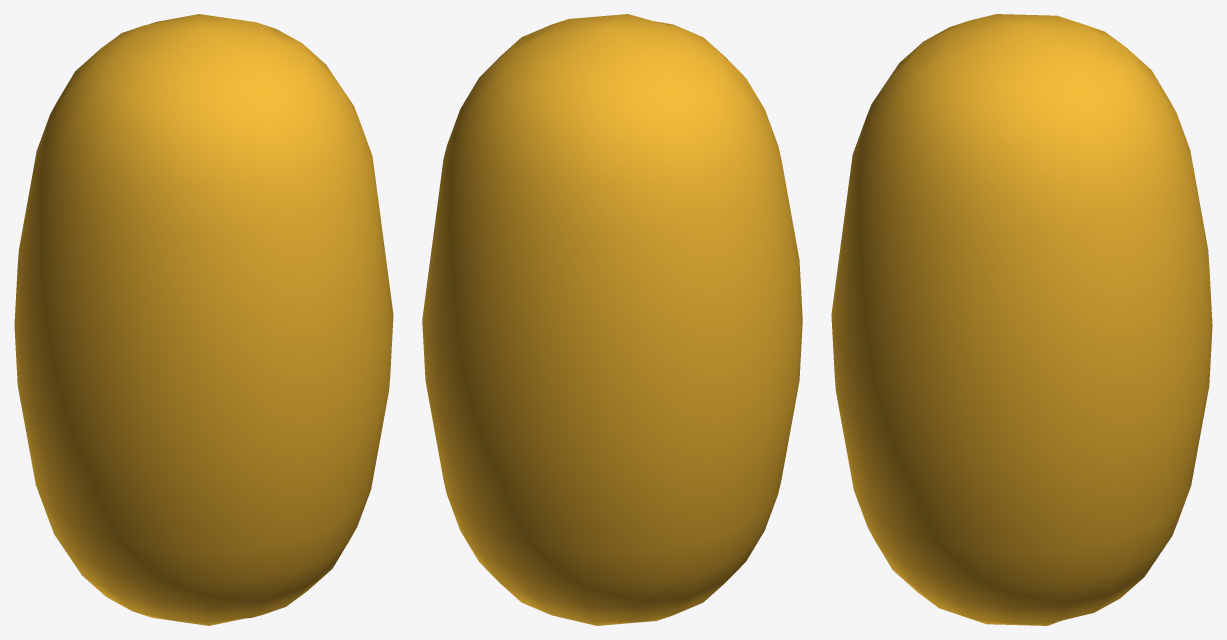
The model's file is nervoso-motor-root-of-trigeminal-nerve-l.glb.
3 views of the same model, side by side, from view 1: azimuth 30°, elevation 25°; view 2: azimuth 150°, elevation 25°; view 3: azimuth 270°, elevation 25° (orthographic).
Visible parts, largest first — view 1: Motor root of trigeminal nerve.l; view 2: Motor root of trigeminal nerve.l; view 3: Motor root of trigeminal nerve.l.
Boxes of the visible parts, box(x1,y1,x2,y2) form: Motor root of trigeminal nerve.l: box(14, 14, 393, 625); Motor root of trigeminal nerve.l: box(422, 14, 802, 625); Motor root of trigeminal nerve.l: box(831, 14, 1212, 625).
Bounding box in the file's own units: 0.0019 × 0.00323 × 0.0019.
